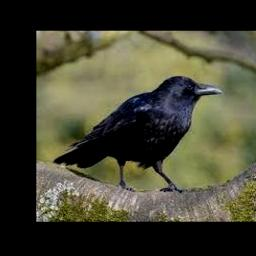Crow: (53, 76, 224, 193)
